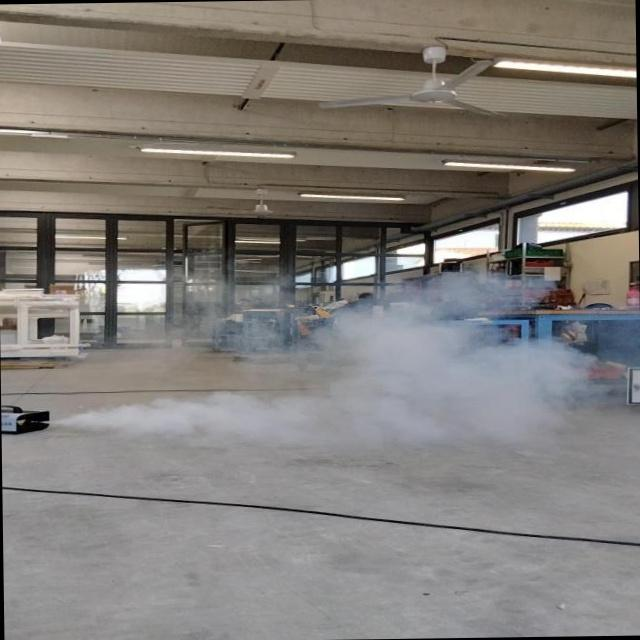smoke: (38, 266, 596, 479)
